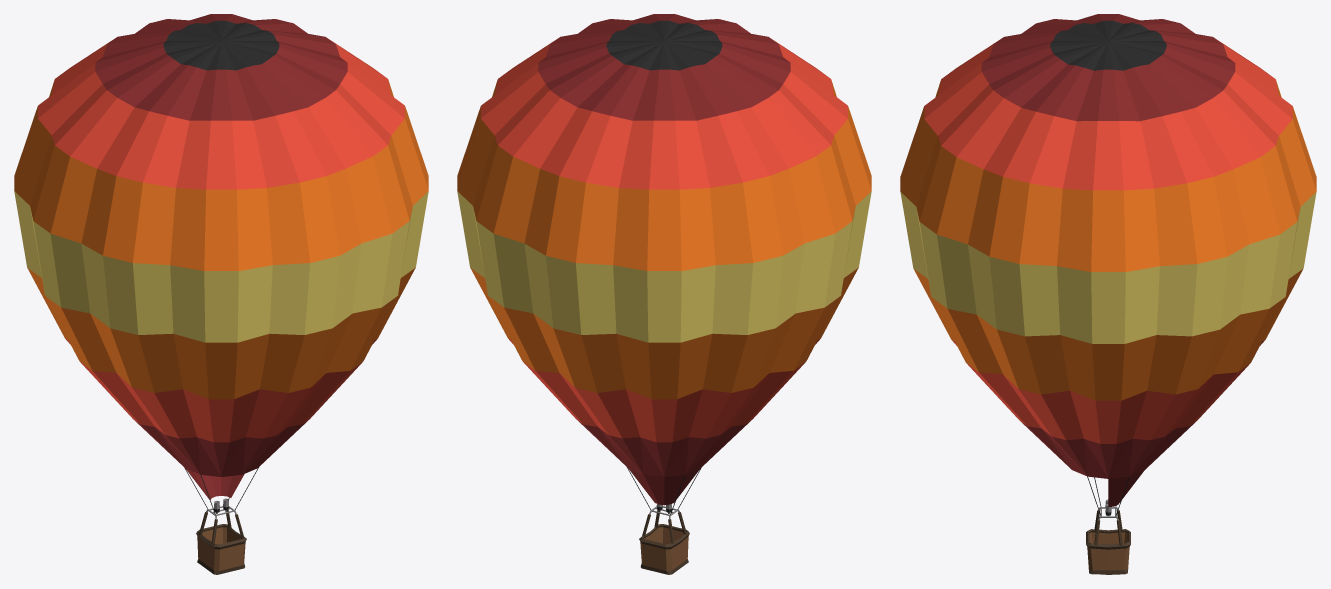
The model's file is vehicles_balloon.fbx.
3 renders of one model, left to right at view 1: azimuth 30°, elevation 25°; view 2: azimuth 150°, elevation 25°; view 3: azimuth 270°, elevation 25°, orthographic.
Parts seen in each view (by area): view 1: vehicles_balloon; view 2: vehicles_balloon; view 3: vehicles_balloon.
Boxes of the visible parts, box(x1,y1,x2,y2) form: vehicles_balloon: box(14, 14, 428, 574); vehicles_balloon: box(457, 14, 871, 574); vehicles_balloon: box(900, 14, 1316, 574).
Bounding box in the file's own units: 143 × 200 × 143.
